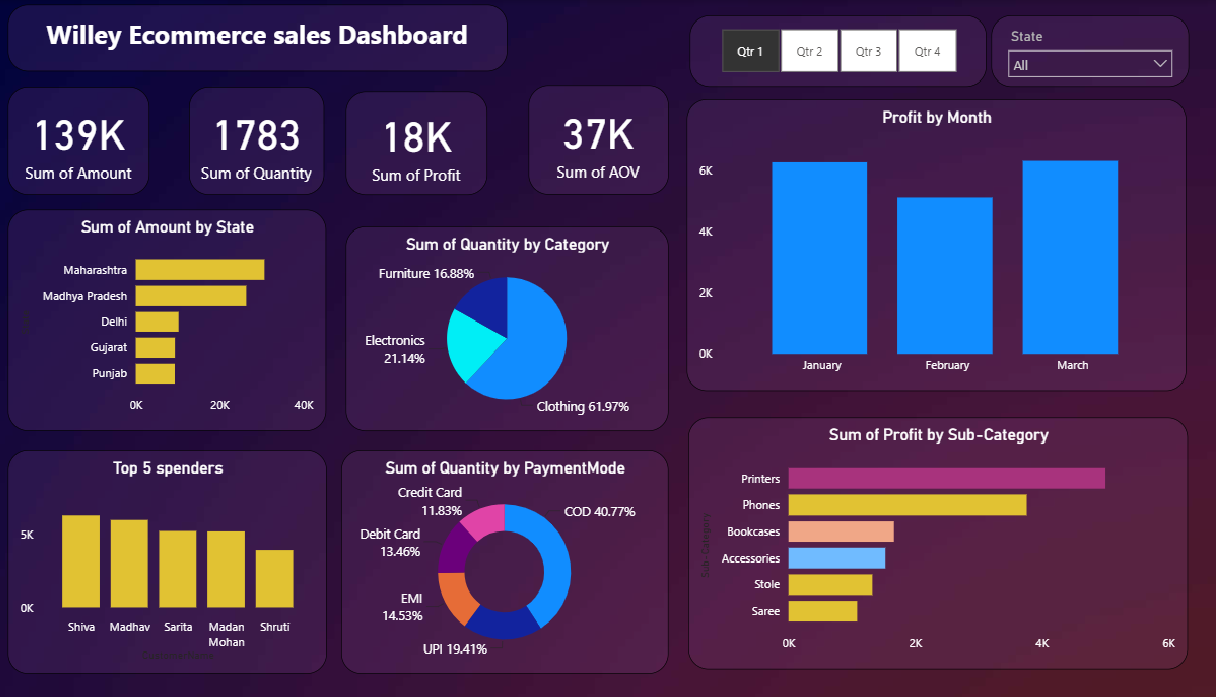

The dashboard page shown, as its layout file describes it:
{"tool":"powerbi","page":{"name":"Page 1","canvas":[1280,720],"ordinal":0},"visuals":[{"type":"textbox","box":[11.1,4.8,521.7,68.4],"z":0},{"type":"columnChart","title":"Profit by Month","fields":{"Category":["Orders.Order Date.Variation.Date Hierarchy.Month"],"Y":["Sum(Details.Profit)"]},"box":[720,101.7,521.7,299.4],"z":1000},{"type":"barChart","fields":{"Y":["Sum(Details.Profit)"],"Category":["Details.Sub-Category"]},"box":[722.8,428.3,522.2,258.3],"z":2000},{"type":"pieChart","fields":{"Category":["Details.Category"],"Y":["Sum(Details.Quantity)"]},"box":[364.2,232.2,337.2,210],"z":3000},{"type":"donutChart","fields":{"Category":["Details.PaymentMode"],"Y":["Sum(Details.Quantity)"]},"box":[360,461.7,341.7,230],"z":4000},{"type":"card","fields":{"Values":["Sum(Details.Amount)"]},"box":[11.1,89.1,147.9,111.3],"z":5000},{"type":"card","fields":{"Values":["Sum(Details.Quantity)"]},"box":[200.4,89.1,141.6,111.3],"z":6000},{"type":"card","fields":{"Values":["Sum(Details.Profit)"]},"box":[364.2,93.8,147.9,106.6],"z":7000},{"type":"card","fields":{"Values":["Sum(Details.AOV)"]},"box":[555.1,87.5,146.3,112.9],"z":8000},{"type":"barChart","fields":{"Category":["Orders.State"],"Y":["Sum(Details.Amount)"]},"box":[11.1,214.7,332.4,227.5],"z":9000},{"type":"columnChart","title":"Top 5 spenders","fields":{"Category":["Orders.CustomerName"],"Y":["Sum(Details.Amount)"]},"box":[11,462,333,230],"z":10000},{"type":"slicer","fields":{"Values":["Orders.Order Date.Variation.Date Hierarchy.Quarter"]},"box":[723.3,16.7,310,73.3],"z":11000},{"type":"slicer","fields":{"Values":["Orders.State"]},"box":[1038.3,16.7,206.7,73.3],"z":12000}]}

Visuals, with their boxes in screenshot pixels (x1, y1, x2, y2), scaled from the page's 1280x720 canvas onto the 1216x697 screenshot:
textbox: x1=11, y1=5, x2=506, y2=71
"Profit by Month" columnChart: x1=684, y1=98, x2=1180, y2=388
barChart - Sum(Details.Profit) x Details.Sub-Category: x1=687, y1=415, x2=1183, y2=665
pieChart - Details.Category x Sum(Details.Quantity): x1=346, y1=225, x2=666, y2=428
donutChart - Details.PaymentMode x Sum(Details.Quantity): x1=342, y1=447, x2=667, y2=670
card - Sum(Details.Amount): x1=11, y1=86, x2=151, y2=194
card - Sum(Details.Quantity): x1=190, y1=86, x2=325, y2=194
card - Sum(Details.Profit): x1=346, y1=91, x2=486, y2=194
card - Sum(Details.AOV): x1=527, y1=85, x2=666, y2=194
barChart - Orders.State x Sum(Details.Amount): x1=11, y1=208, x2=326, y2=428
"Top 5 spenders" columnChart: x1=10, y1=447, x2=327, y2=670
slicer - Orders.Order Date.Variation.Date Hierarchy.Quarter: x1=687, y1=16, x2=982, y2=87
slicer - Orders.State: x1=986, y1=16, x2=1183, y2=87
